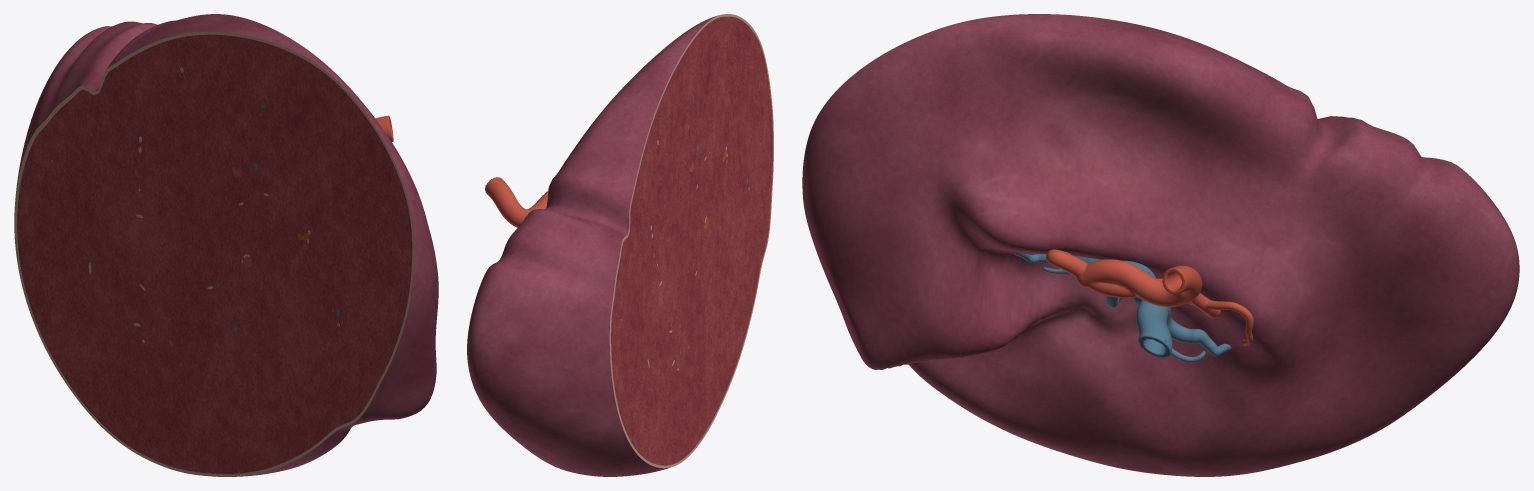
Rendered from section.glb.
3 renders of one model, left to right at view 1: azimuth 30°, elevation 25°; view 2: azimuth 150°, elevation 25°; view 3: azimuth 270°, elevation 25°, orthographic. The views are drawn at different scales.
Visible parts, largest first — view 1: CutFace_red_pulp, Section_Capsule, CutFace_capsule; view 2: CutFace_red_pulp, Section_Capsule, CutFace_capsule, Section_SPL_HILAR_ARTERY; view 3: Section_Capsule, Section_SPL_HILAR_ARTERY, Section_SPL_HILAR_VEIN.
Boxes of the visible parts, left/top/right/bottom form: CutFace_red_pulp: left=17, top=34, right=412, bottom=473; Section_Capsule: left=15, top=14, right=438, bottom=476; CutFace_capsule: left=14, top=31, right=414, bottom=476; CutFace_red_pulp: left=611, top=16, right=772, bottom=465; Section_Capsule: left=467, top=15, right=718, bottom=476; CutFace_capsule: left=609, top=14, right=773, bottom=468; Section_SPL_HILAR_ARTERY: left=485, top=177, right=548, bottom=227; Section_Capsule: left=802, top=14, right=1519, bottom=476; Section_SPL_HILAR_ARTERY: left=1046, top=249, right=1253, bottom=345; Section_SPL_HILAR_VEIN: left=1014, top=252, right=1231, bottom=362.
Bounding box in the file's own units: 0.0488 × 0.0785 × 0.1096.
9 materials, 2 textured.
